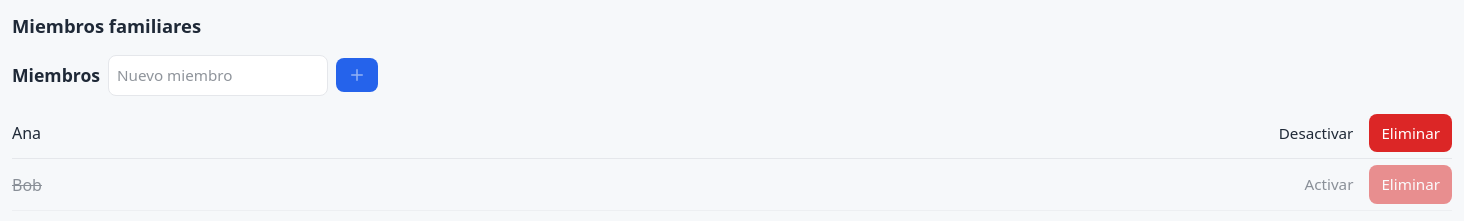
PersonsConfig › discards the draft when re-entering the edit mode
This screenshot has width=1464, height=221.
Click the button "Ana".
click(27, 133)  # box [12,121,41,145]
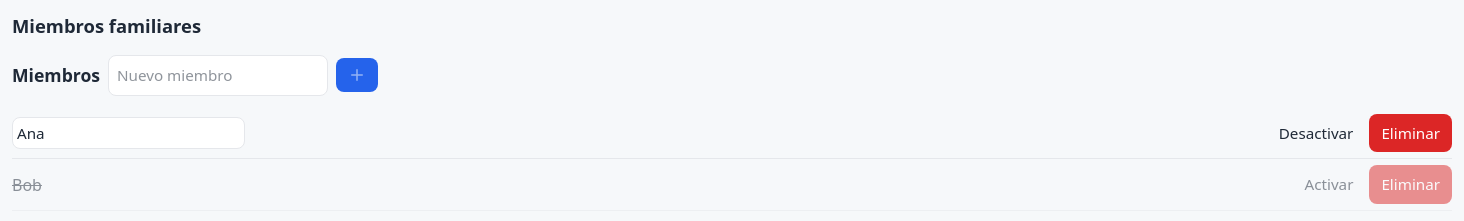
Clear the field showing "Ana" at (128, 133), box [12,117,245,150]
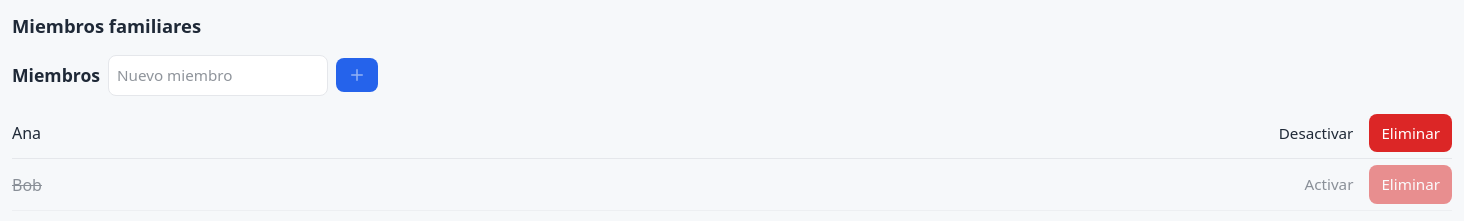
Click the button "Ana".
click(27, 133)  # box [12,121,41,145]
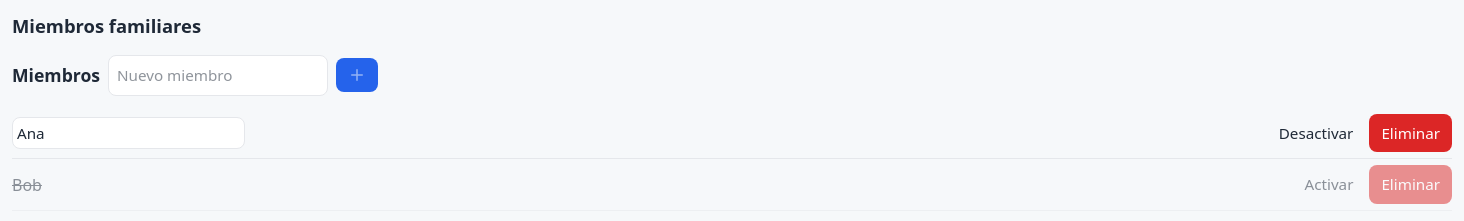
Now the field showing "Ana" is shown, box [12,117,245,150]
